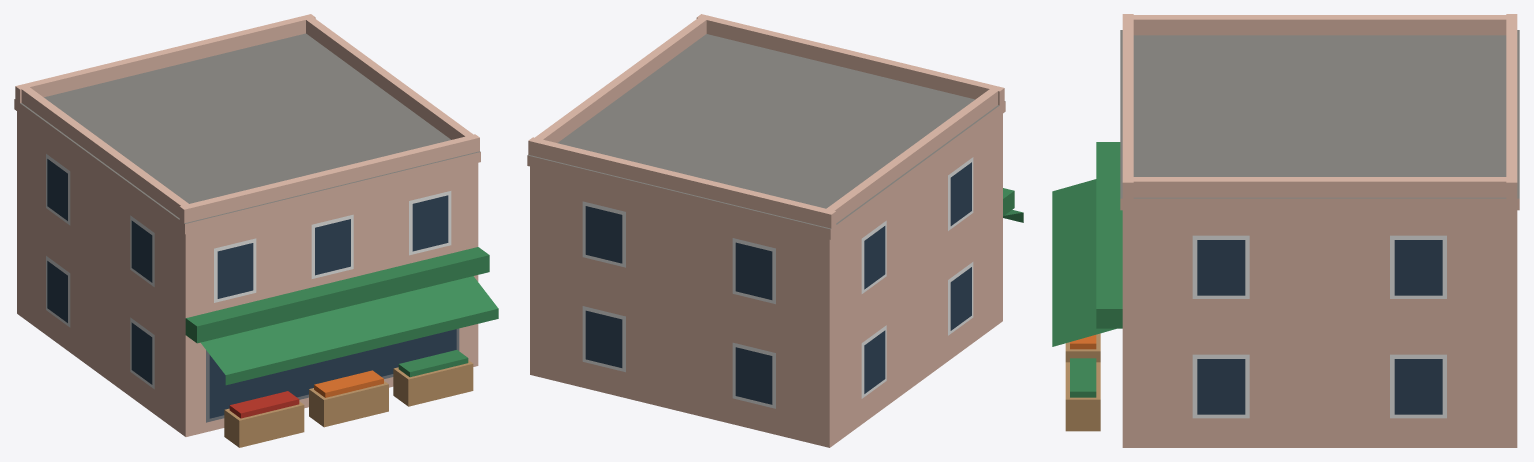
The model's file is epicerie_quartier.glb.
The picture shows the model from 3 angles, left to right: view 1: azimuth 30°, elevation 25°; view 2: azimuth 150°, elevation 25°; view 3: azimuth 270°, elevation 25°; orthographic projection. The views are drawn at different scales.
Visible parts, largest first — view 1: epicerie_quartier; view 2: epicerie_quartier; view 3: epicerie_quartier.
Boxes of the visible parts, x1,y1,x2,y2 form: epicerie_quartier: (14, 14, 498, 447); epicerie_quartier: (527, 14, 1023, 447); epicerie_quartier: (1052, 14, 1519, 447).
Bounding box in the file's own units: 9.1 × 6.7 × 10.65.
1 material, 1 textured.
